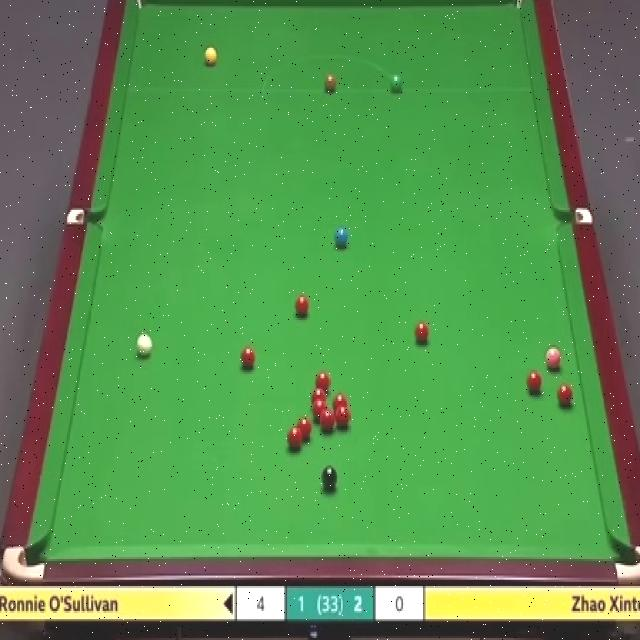black-ball: (321, 464, 338, 494)
blue-ball: (334, 225, 349, 248)
brown-ball: (323, 73, 337, 94)
green-ball: (390, 75, 402, 92)
pink-ball: (546, 345, 562, 372)
red-ball: (239, 345, 257, 373), (527, 370, 545, 395), (286, 427, 303, 452), (297, 419, 314, 444), (556, 384, 574, 407), (334, 406, 350, 430), (415, 320, 430, 345), (294, 295, 310, 318), (320, 408, 334, 432), (312, 401, 327, 420), (314, 372, 331, 388), (311, 386, 326, 404), (333, 396, 347, 409)
white-ball: (134, 331, 153, 357)
yellow-ball: (204, 47, 218, 68)
